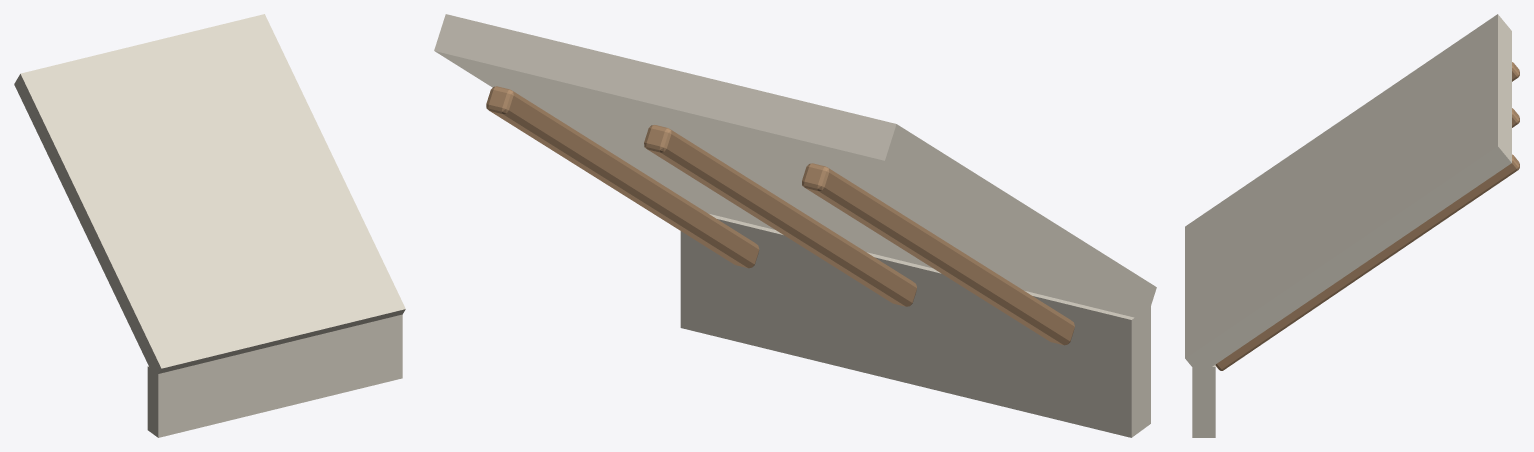
File: cozy-home-interiors-attic-slope-2m-1d95d7cb.glb
3 views of the same model, side by side, from view 1: azimuth 30°, elevation 25°; view 2: azimuth 150°, elevation 25°; view 3: azimuth 270°, elevation 25° (orthographic). The views are drawn at different scales.
Visible parts, largest first — view 1: attic-slope-2m; view 2: attic-slope-2m; view 3: attic-slope-2m.
Boxes of the visible parts, x1,y1,x2,y2 form: attic-slope-2m: [14, 14, 405, 437]; attic-slope-2m: [434, 14, 1156, 437]; attic-slope-2m: [1185, 14, 1519, 437].
Bounding box in the file's own units: 2 × 2.06 × 2.14.
